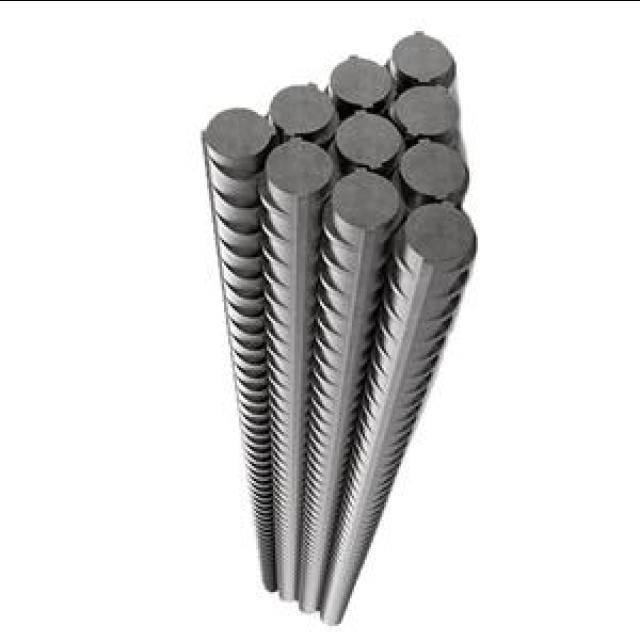Rebar: (204, 108, 280, 165), (327, 110, 401, 166), (333, 172, 401, 232), (264, 138, 334, 194), (388, 82, 454, 140), (394, 143, 462, 199), (402, 207, 466, 265), (325, 49, 386, 107), (391, 30, 459, 82), (276, 81, 341, 129)
